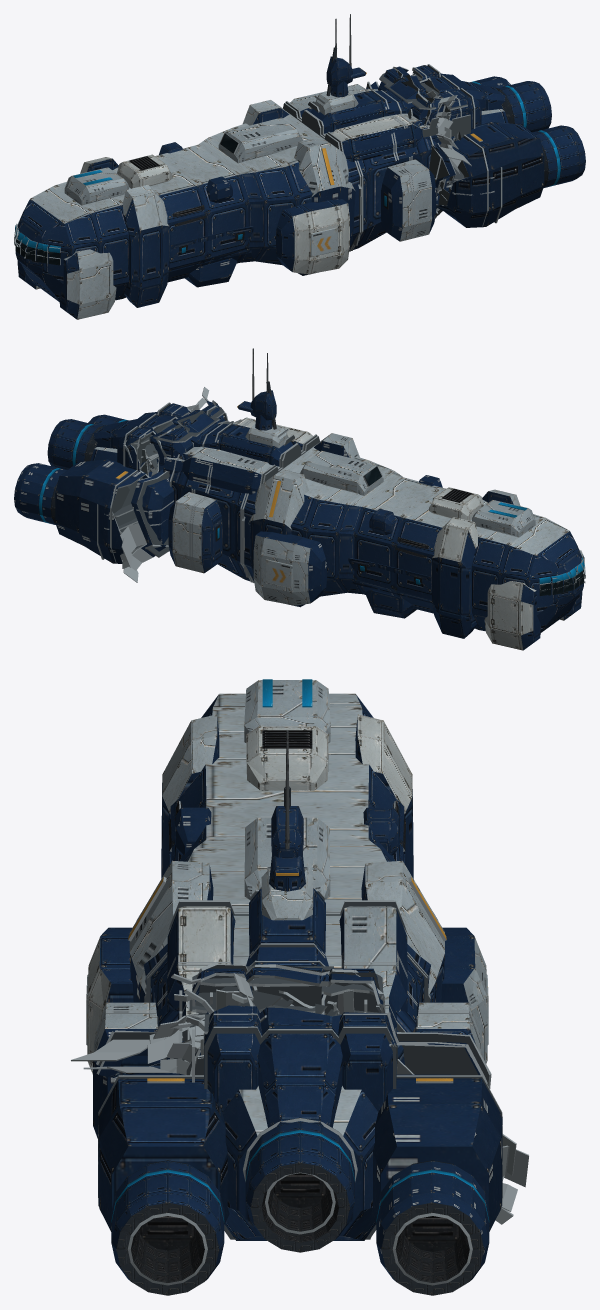
Rendered from concord-frigate-drive-loss.glb.
3 views of the same model, one above another, from view 1: azimuth 30°, elevation 25°; view 2: azimuth 150°, elevation 25°; view 3: azimuth 270°, elevation 25° (orthographic). The views are drawn at different scales.
Parts seen in each view (by area): view 1: Frigate wreck forward section, Frigate wreck engine section, Frigate wreck command tower, Frigate wreck ejected structure 2; view 2: Frigate wreck forward section, Frigate wreck engine section, Frigate wreck command tower, Frigate wreck ejected structure 2; view 3: Frigate wreck forward section, Frigate wreck engine section, Frigate wreck command tower, Frigate wreck ejected structure 2.
Part boxes in pixels (x1,y1,x2,y2): Frigate wreck forward section: (14, 66, 471, 319); Frigate wreck engine section: (410, 64, 585, 227); Frigate wreck command tower: (316, 14, 366, 110); Frigate wreck ejected structure 2: (352, 91, 380, 114); Frigate wreck forward section: (120, 387, 585, 650); Frigate wreck engine section: (14, 398, 206, 582); Frigate wreck command tower: (237, 348, 287, 443); Frigate wreck ejected structure 2: (223, 425, 249, 446); Frigate wreck forward section: (71, 679, 516, 1180); Frigate wreck engine section: (83, 989, 528, 1295); Frigate wreck command tower: (261, 730, 313, 915); Frigate wreck ejected structure 2: (252, 911, 322, 946).
Bounding box in the file's own units: 2.32 × 0.9249 × 0.8905.
3 materials, 1 textured.
